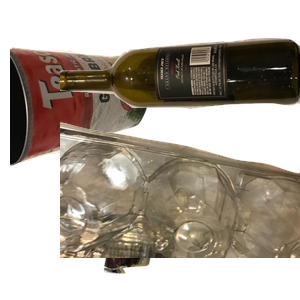glass: (60, 36, 300, 147)
metal: (10, 44, 151, 203)
plastic: (60, 120, 300, 300)
trash: (101, 157, 270, 300)
